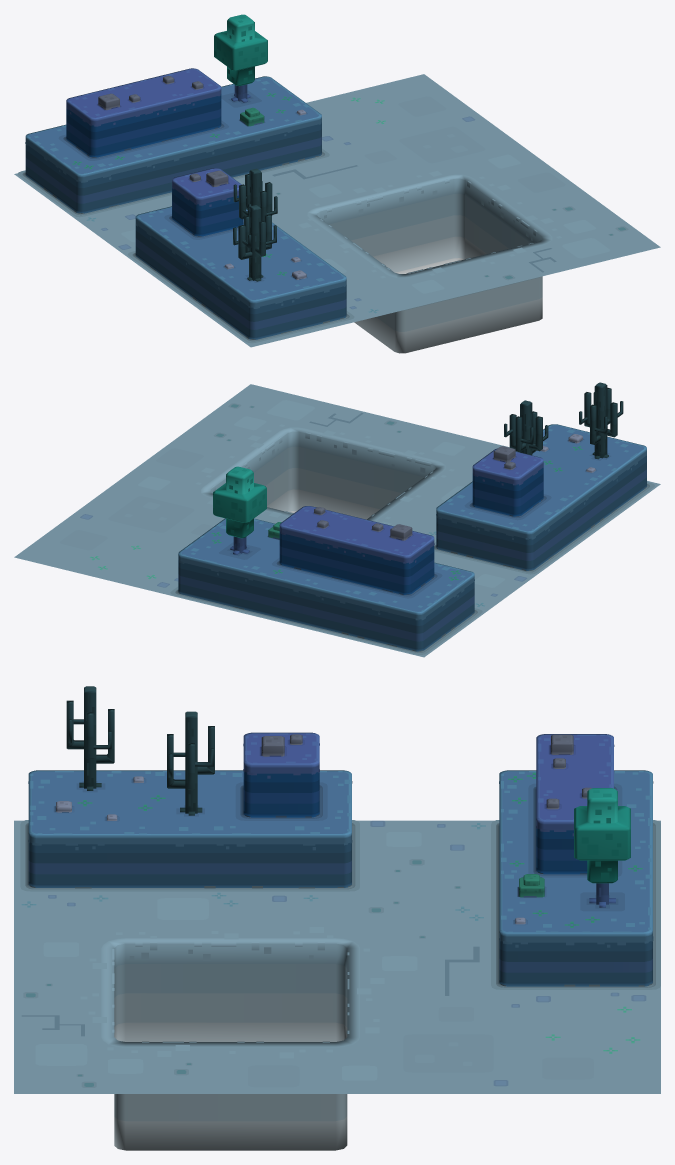
File: C_mountain2_06.fbx
3 renders of one model, top to bottom at view 1: azimuth 30°, elevation 25°; view 2: azimuth 150°, elevation 25°; view 3: azimuth 270°, elevation 25°, orthographic. The views are drawn at different scales.
Parts seen in each view (by area): view 1: C_mountain2_06; view 2: C_mountain2_06; view 3: C_mountain2_06.
Part boxes in pixels (<box>): C_mountain2_06: <box>14,14,660,353</box>; C_mountain2_06: <box>14,382,660,657</box>; C_mountain2_06: <box>14,686,660,1150</box>.
Size of the model in its own units: 50 by 23.26 by 50.
